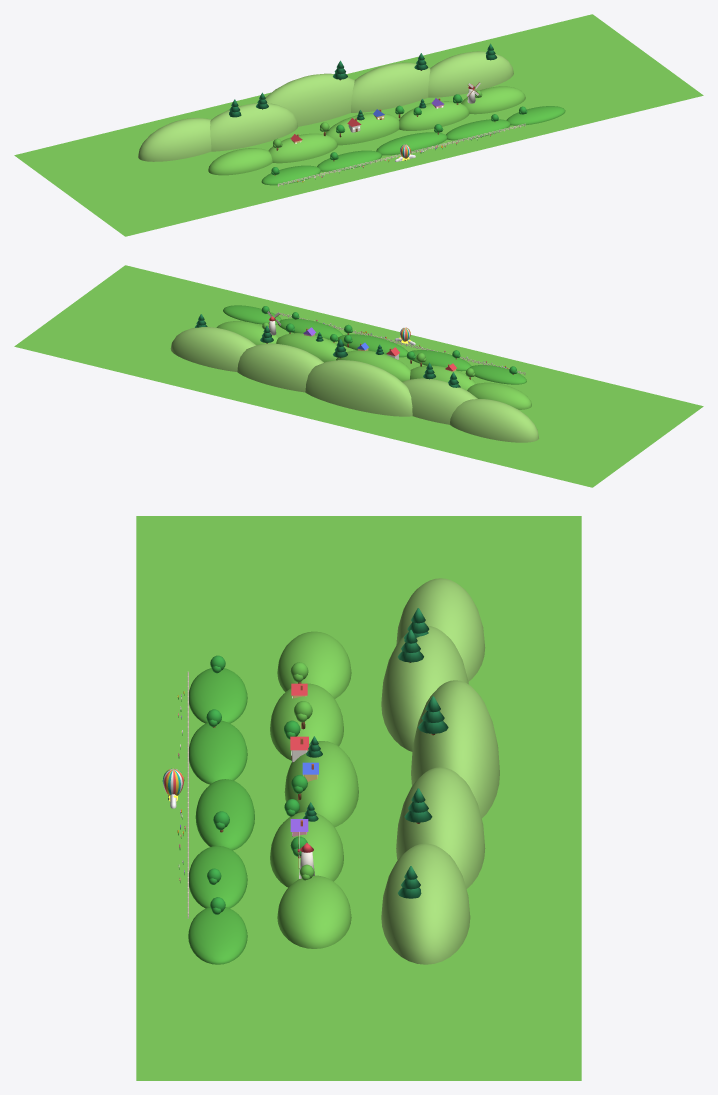
File: world.glb
The picture shows the model from 3 angles, top to bottom: view 1: azimuth 30°, elevation 25°; view 2: azimuth 150°, elevation 25°; view 3: azimuth 270°, elevation 25°; orthographic projection. The views are drawn at different scales.
Visible parts, largest first — view 1: landscape_mesh; view 2: landscape_mesh; view 3: landscape_mesh.
Part boxes in pixels (x1,y1,x2,y2): landscape_mesh: [14, 14, 703, 236]; landscape_mesh: [14, 265, 703, 487]; landscape_mesh: [136, 516, 581, 1080].
Bounding box in the file's own units: 180 × 17.58 × 60.
